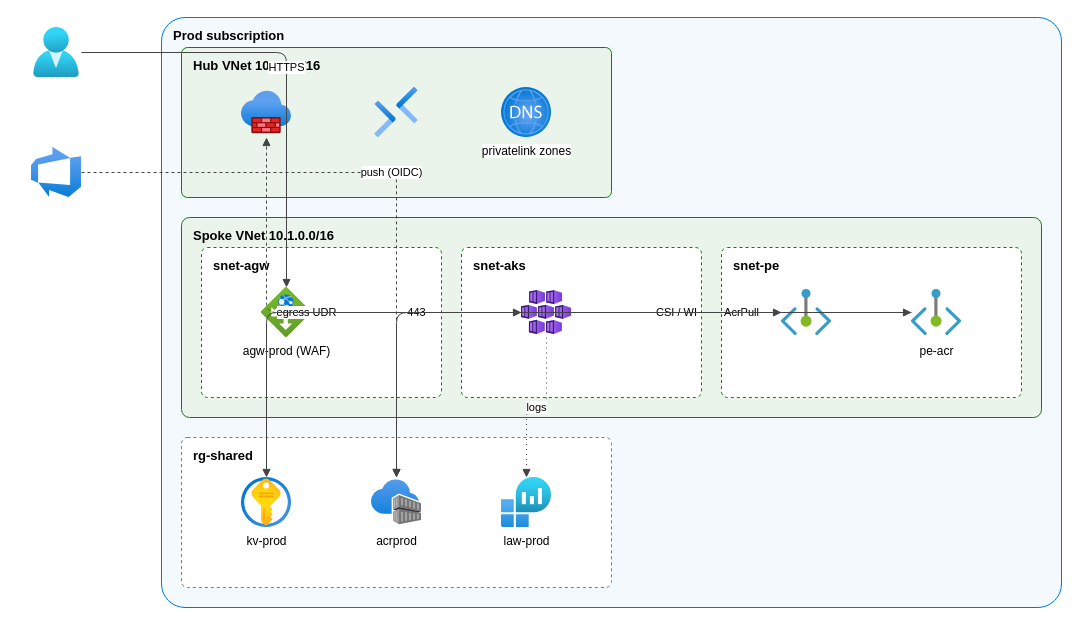
The diagram is 1079 pixels wide and 625 high, and some of its shapes have lost their labels. The centre of each missing label's shape, as x and y in pixels:
"afw-hub" goes at (x=266, y=112).
"aks-prod" goes at (x=546, y=312).
"Azure DevOps" goes at (x=56, y=172).
"bas-hub" goes at (x=396, y=112).
"pe-kv" goes at (x=806, y=312).
"Users" goes at (x=56, y=52).
